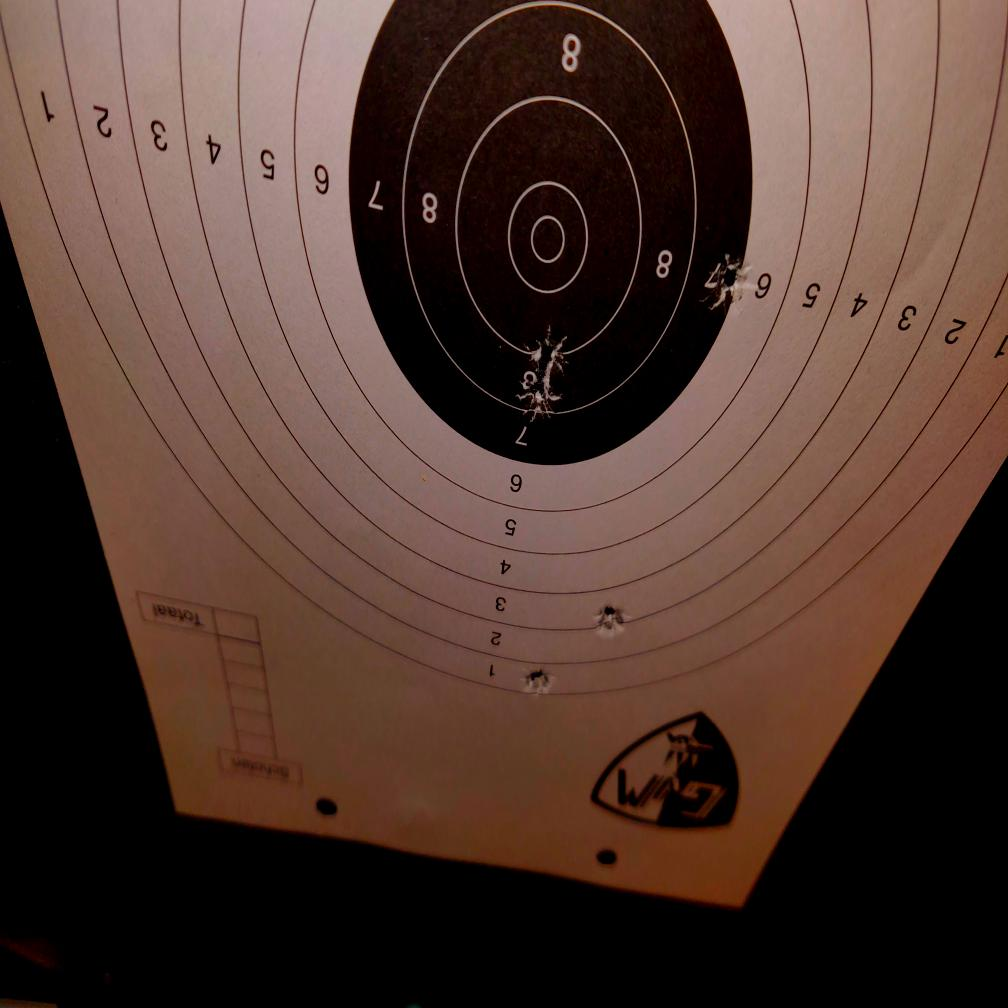1: (524, 666, 553, 699)
3: (592, 602, 626, 643)
7: (713, 246, 754, 319)
8: (523, 376, 557, 423)
9: (526, 326, 567, 376)
Target: (0, 0, 1008, 701)
black_contour: (347, 0, 752, 470)
